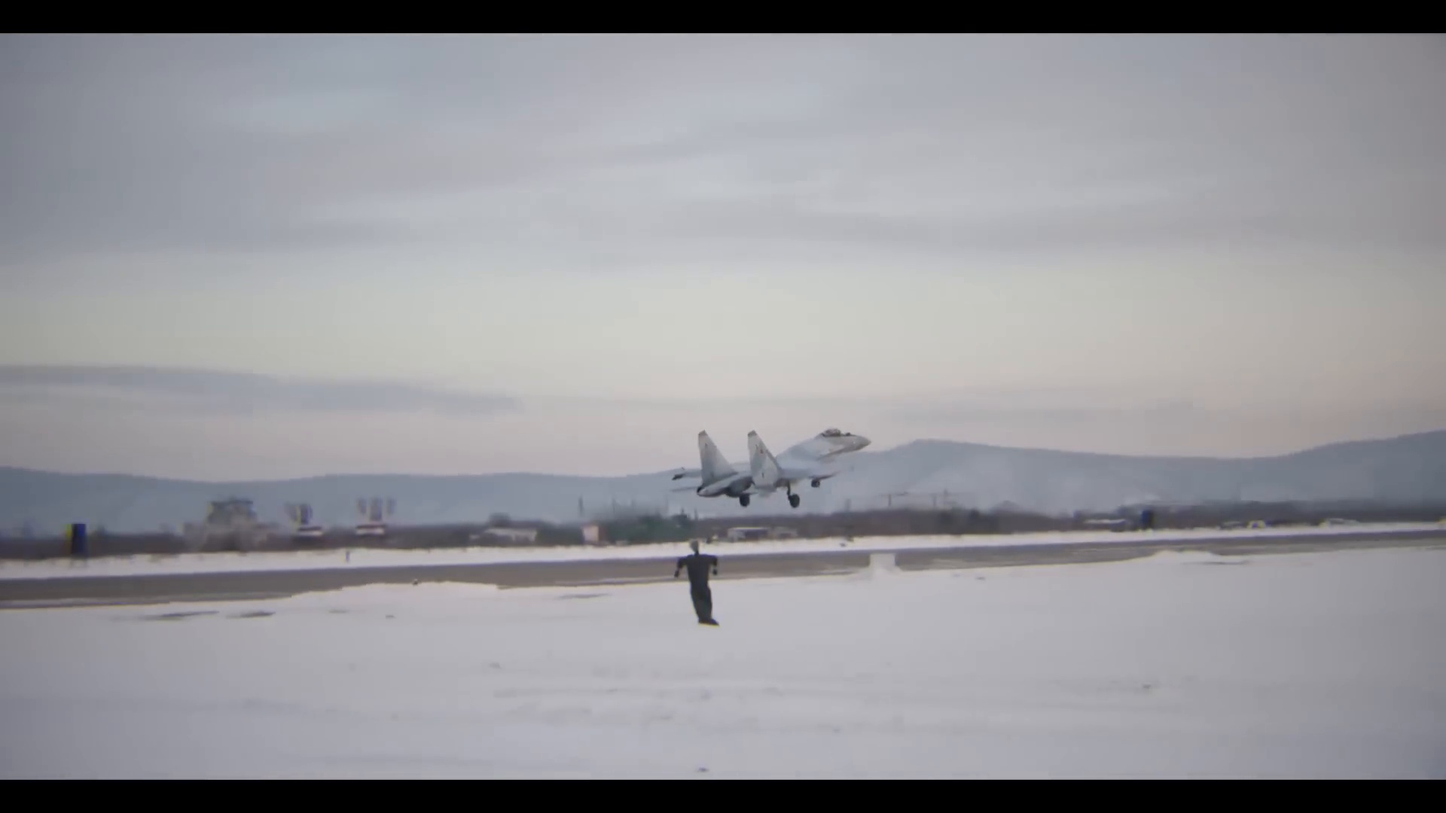Su35: (671, 427, 871, 507)
